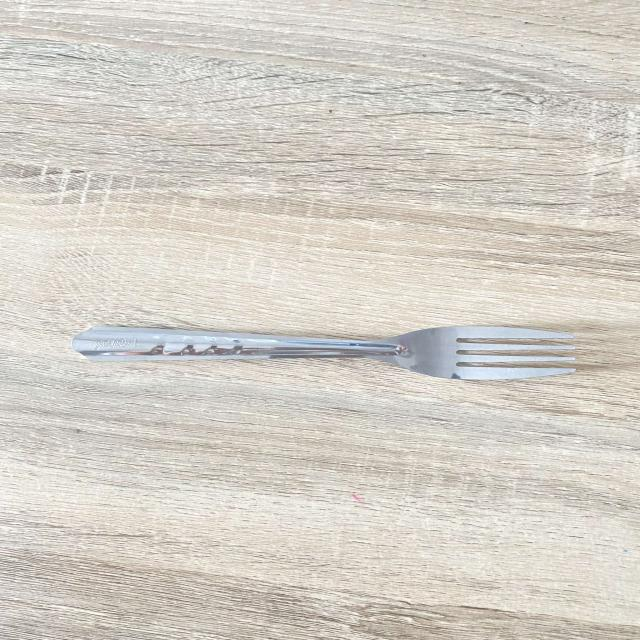fork: (65, 304, 592, 391)
